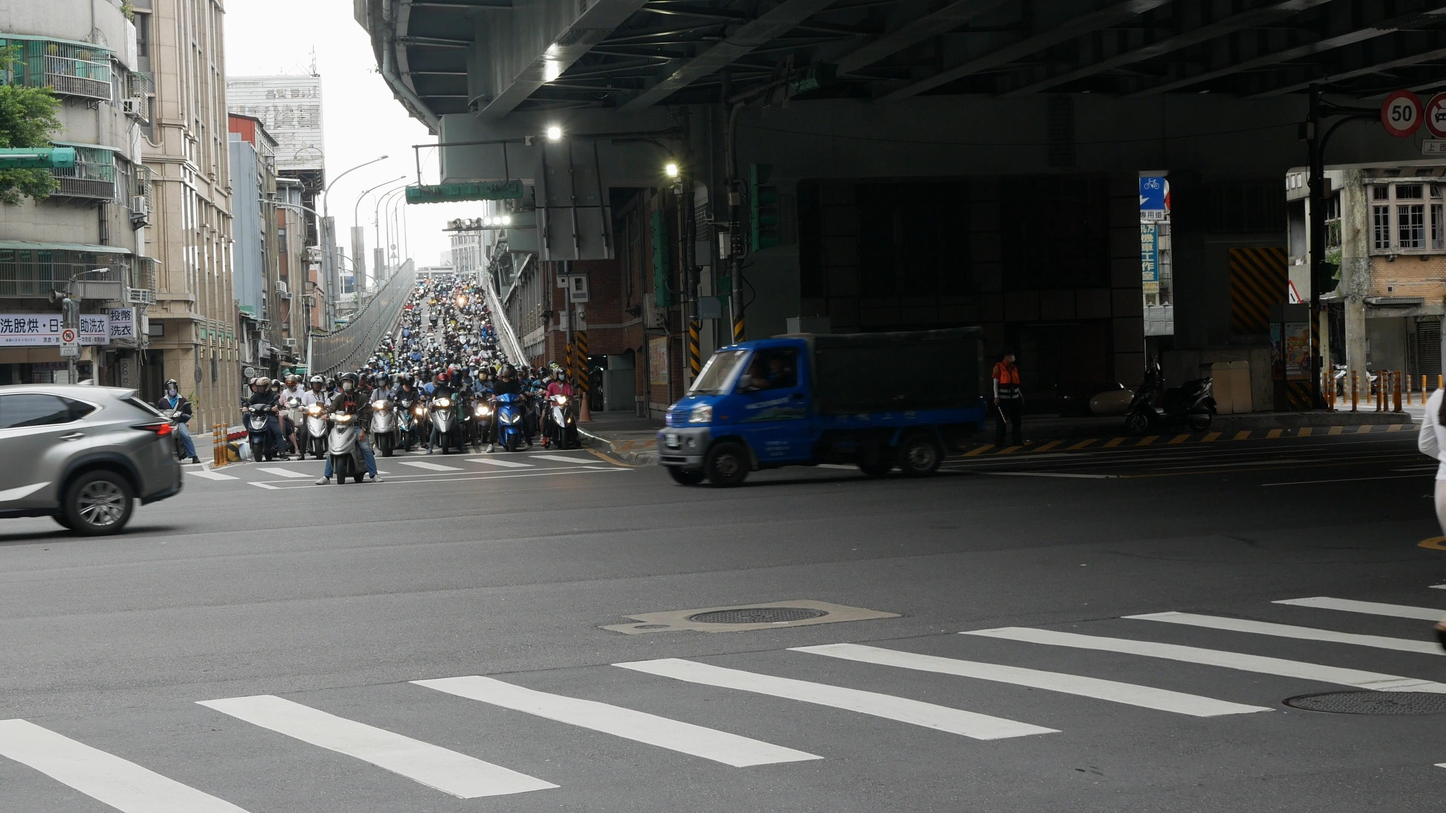driver: (315, 372, 384, 485), (147, 379, 201, 464), (240, 377, 293, 462), (486, 363, 533, 454), (538, 361, 583, 450), (423, 373, 467, 455), (362, 371, 403, 457), (295, 375, 334, 460), (396, 372, 430, 452), (468, 366, 494, 443)
helmet: (340, 372, 359, 392), (255, 377, 272, 394), (309, 375, 324, 392), (374, 371, 389, 388), (164, 379, 178, 397), (285, 374, 298, 392), (552, 367, 567, 382), (501, 363, 515, 378), (549, 363, 562, 379), (403, 373, 415, 388), (437, 373, 449, 388), (324, 378, 336, 392), (478, 366, 489, 381), (248, 378, 259, 392), (271, 379, 281, 392)
